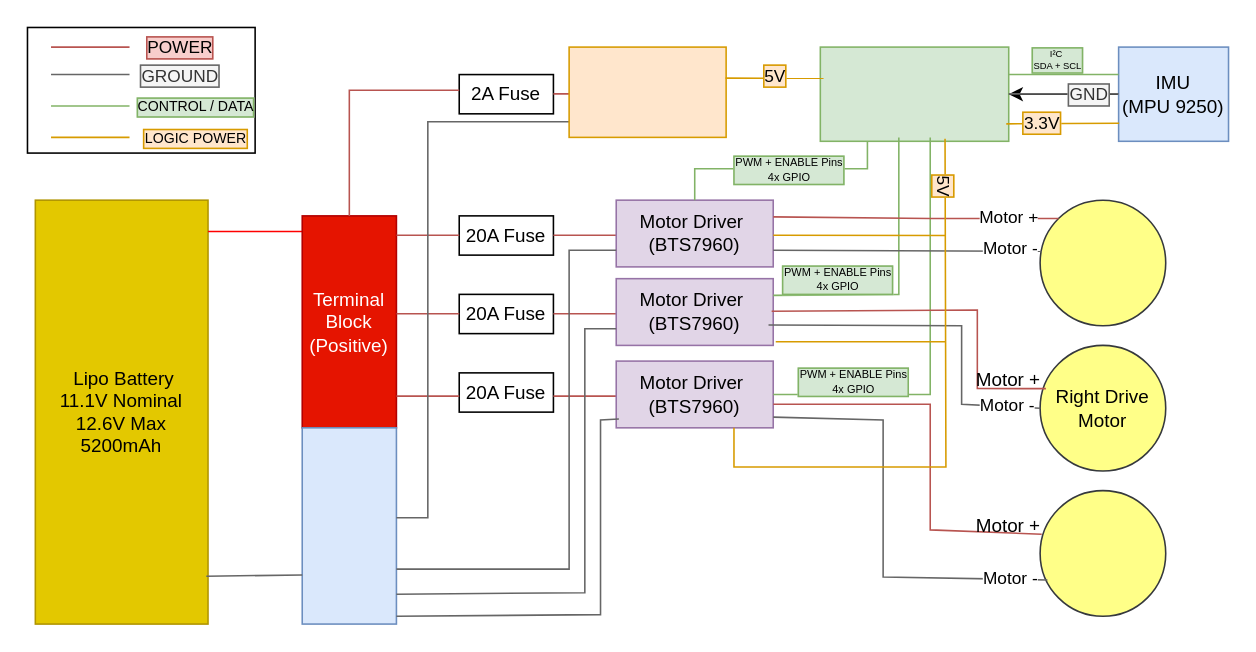
Image size: 1256x652. Some labels were removed from this diagram. Here are the shapes that lost their labels. From the top down, the centre of each, then its label:
(647,91): Buck Converter (LM2596S) 3S LIPO to 5V
(914,93): Custom Interconnect PCB w/ ESP32
(1102,262): Left Drive Motor
(348,525): Terminal Block (Negative)
(1102,552): Front/Arm Motor
